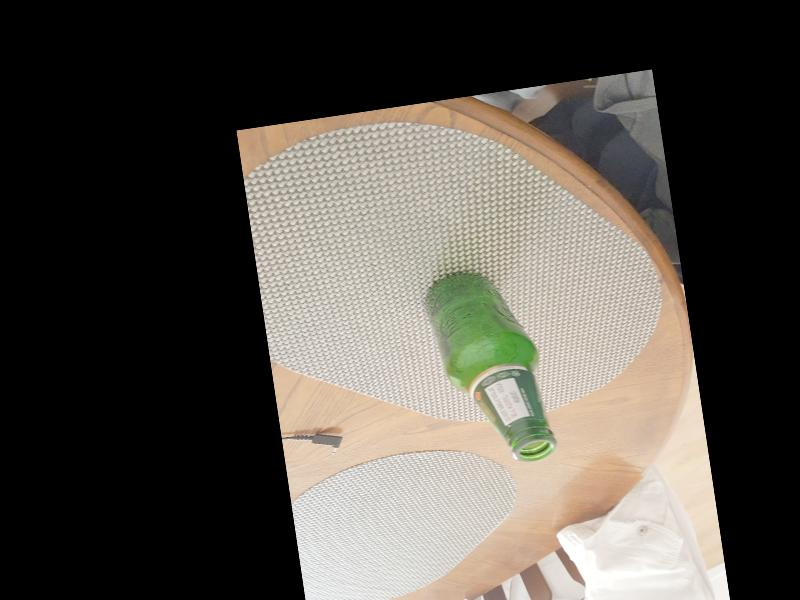Beer: (420, 263, 550, 471)
